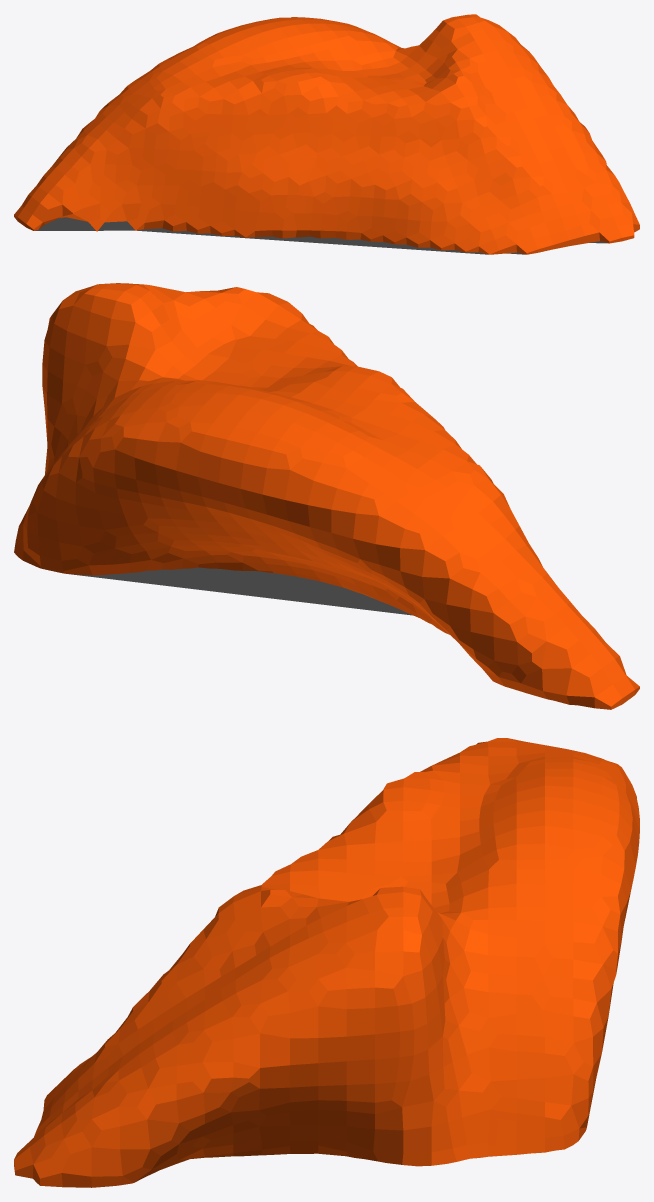
The picture shows the model from 3 angles, top to bottom: view 1: azimuth 30°, elevation 25°; view 2: azimuth 150°, elevation 25°; view 3: azimuth 270°, elevation 25°; orthographic projection. The views are drawn at different scales.
Visible parts, largest first — view 1: 19.002; view 2: 19.002; view 3: 19.002.
Part boxes in pixels (x1,y1,x2,y2): 19.002: (14, 14, 639, 254); 19.002: (14, 283, 639, 709); 19.002: (14, 738, 639, 1187).
Size of the model in its own units: 15.38 by 4.63 by 11.05.
